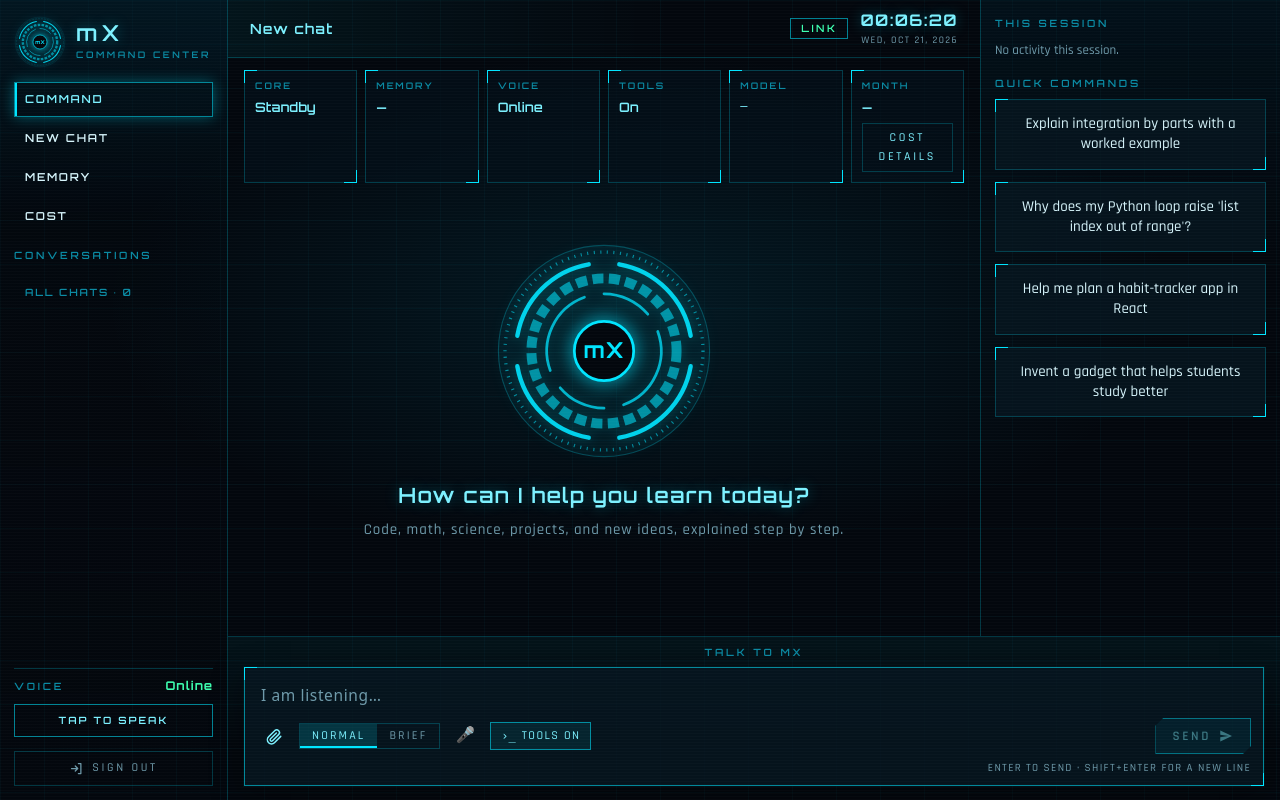
it: chatting › stops a reply and says nothing was saved
The image size is (1280, 800).
Type "Long question" into the text box named "Message".
click(754, 695); type("Long question")  # box [257,678,1251,712]
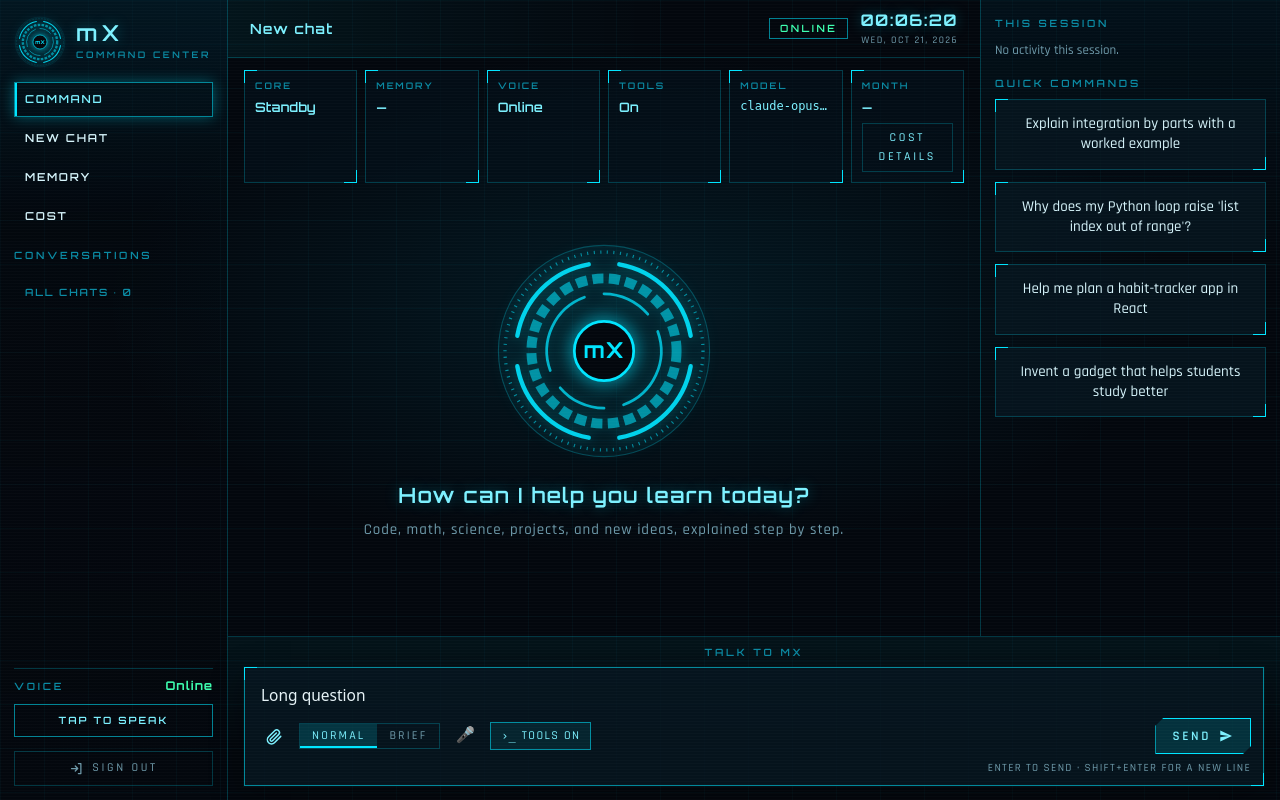
Press Enter in the text box named "Message", box [257,678,1251,712]
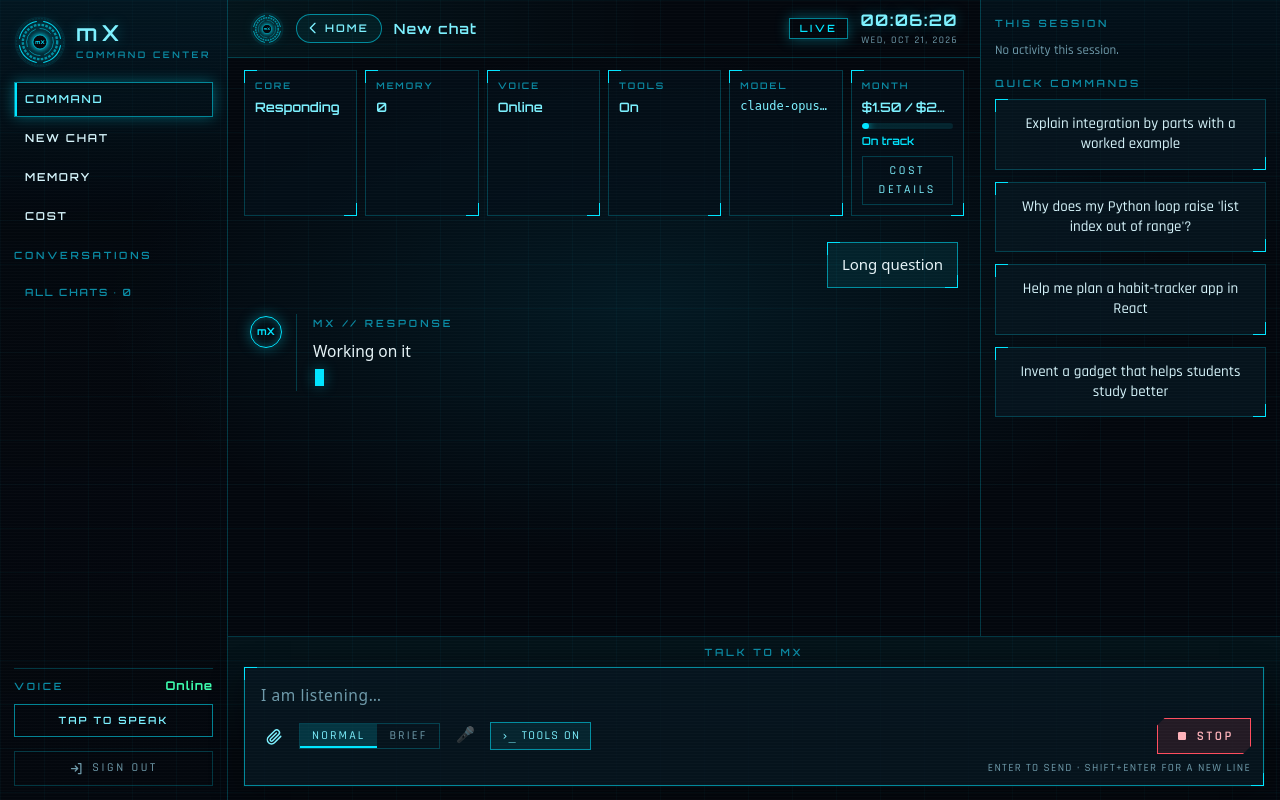
Expected: the text "Working on it" is shown, [313,340,411,362]
Click the button with aria-label "Stop generating".
click(1204, 736)  # box [1157,718,1251,754]
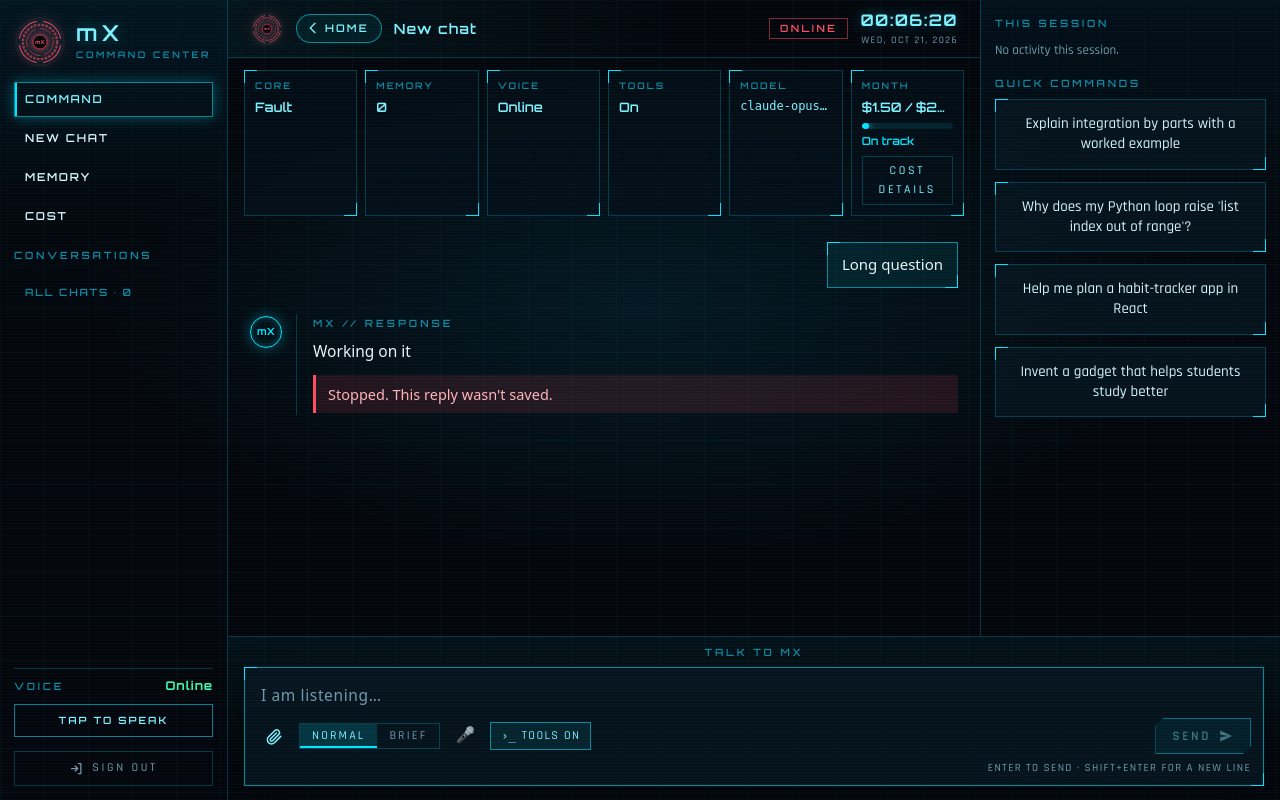
Expected: the text "Stopped. This reply wasn't saved." is shown, [313,375,958,413]
